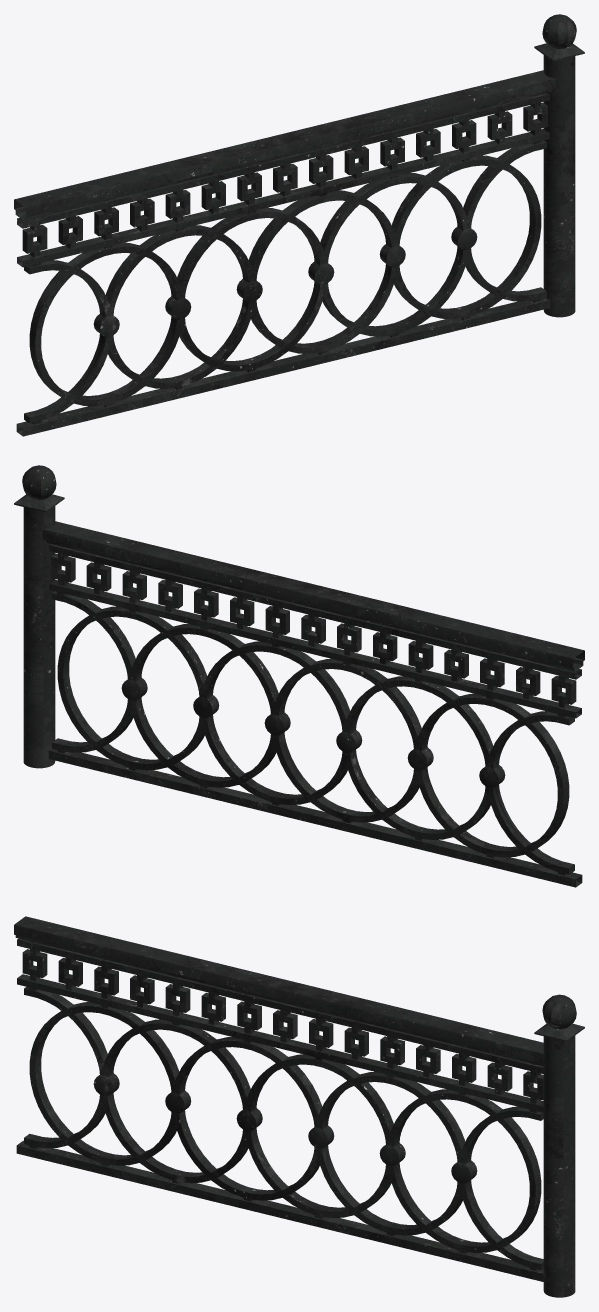
Rendered from KhabarovskNaberZabor.fbx.
The picture shows the model from 3 angles, top to bottom: view 1: azimuth 30°, elevation 25°; view 2: azimuth 150°, elevation 25°; view 3: azimuth 330°, elevation 25°; orthographic projection.
Visible parts, largest first — view 1: waterfront_module.002; view 2: waterfront_module.002; view 3: waterfront_module.002.
Boxes of the visible parts, x1,y1,x2,y2 form: waterfront_module.002: (14,14,584,436); waterfront_module.002: (14,465,584,887); waterfront_module.002: (14,916,584,1297).
Bounding box in the file's own units: 2720 × 1379 × 157.
1 material, 1 textured.
